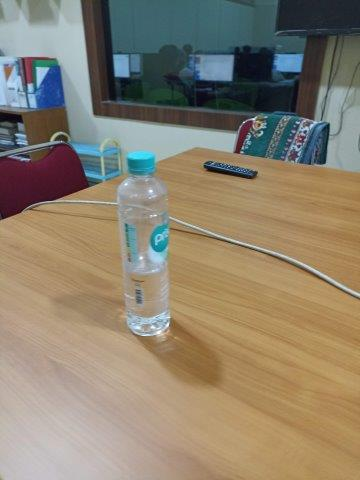botolplastik: (116, 151, 170, 336)
